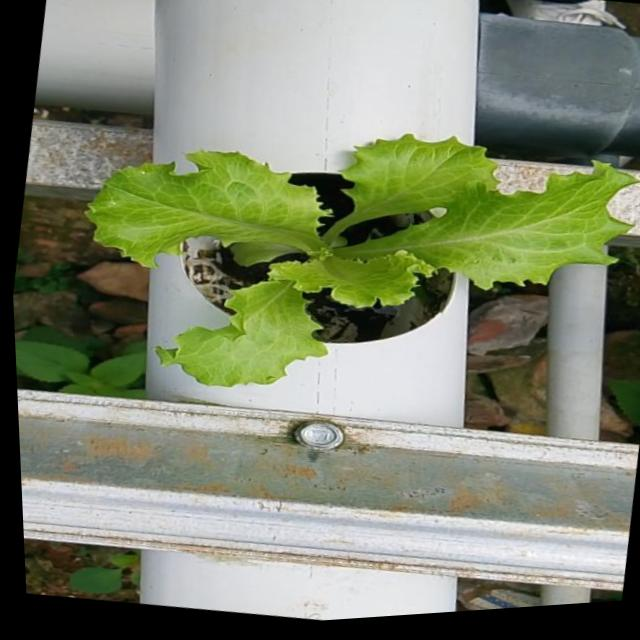Baby: (84, 135, 635, 386)
